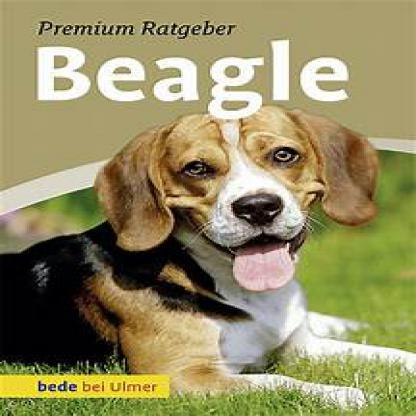dog: (0, 107, 414, 377)
